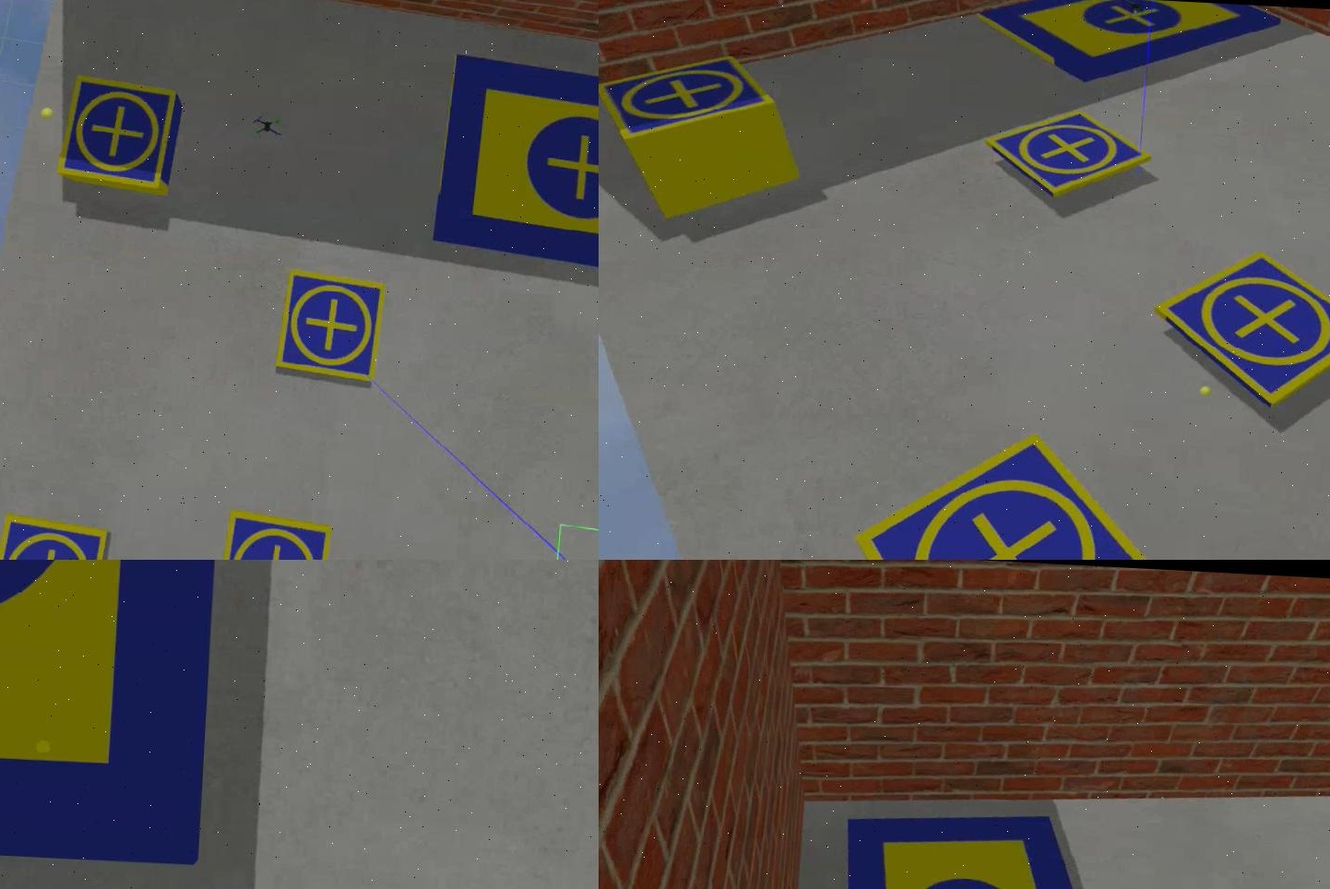large_base: (0, 561, 226, 861), (426, 55, 598, 290), (968, 1, 1281, 93), (834, 804, 1146, 889)
small_base: (845, 424, 1167, 561), (1146, 245, 1328, 415), (598, 47, 780, 153), (980, 103, 1152, 207), (54, 69, 180, 194), (271, 269, 385, 387), (216, 513, 332, 561), (0, 513, 110, 561)
